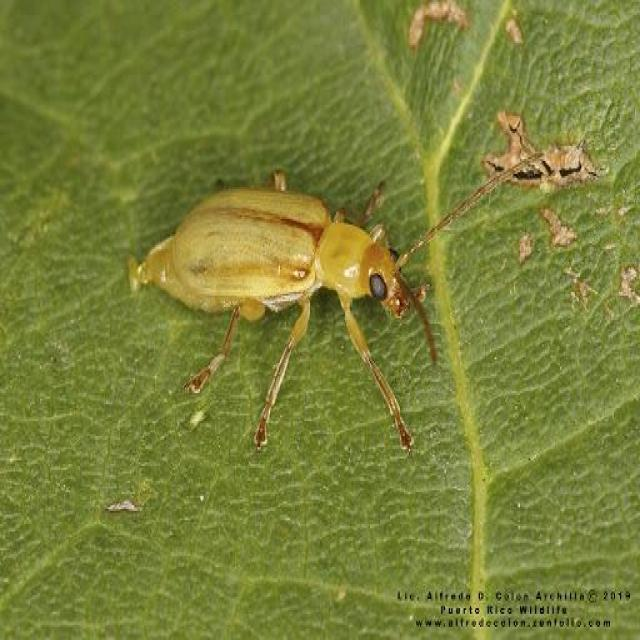trips: (137, 153, 547, 450)
